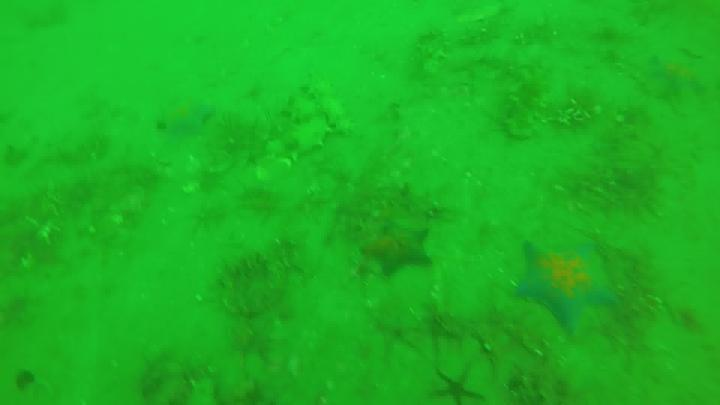holothurian: (288, 69, 351, 158), (511, 49, 555, 134)
scallop: (511, 219, 620, 335), (365, 213, 432, 275), (160, 95, 218, 139), (422, 369, 492, 405), (654, 54, 706, 98)
